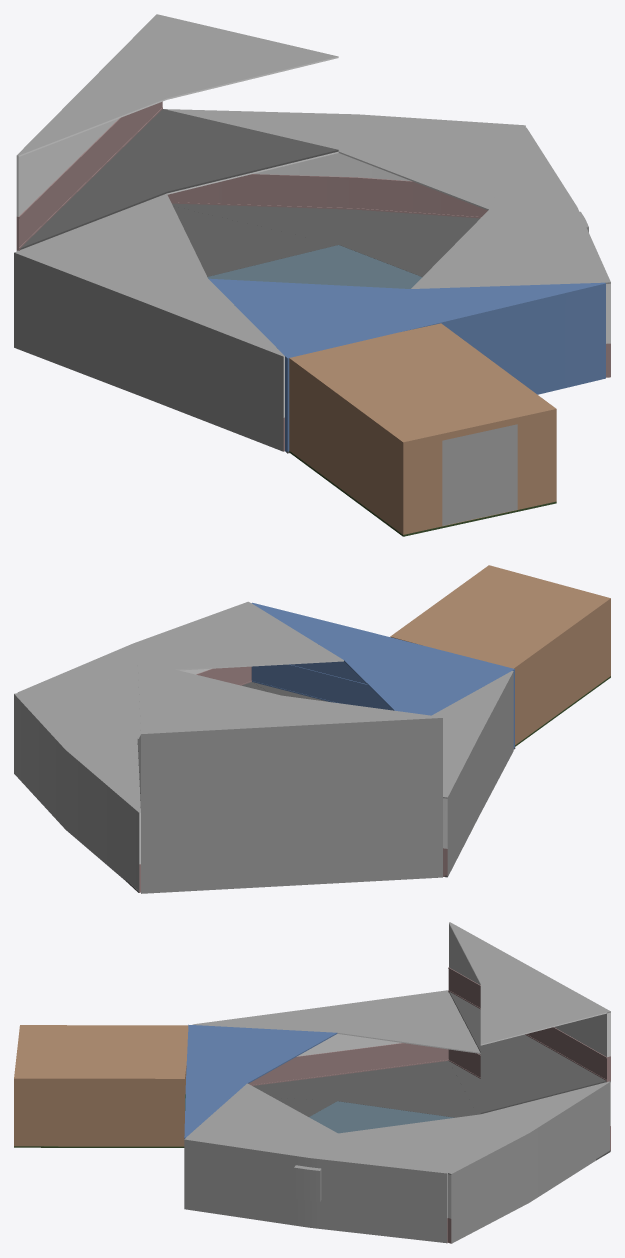
The model's file is FinalRoom_low.fbx.
3 renders of one model, top to bottom at view 1: azimuth 30°, elevation 25°; view 2: azimuth 150°, elevation 25°; view 3: azimuth 270°, elevation 25°, orthographic. The views are drawn at different scales.
Visible parts, largest first — view 1: ArchiveWall, Wall, EntryWall, MachineWall, StudyWall, GalleryWall, StudyFloor, machineFloor, BioFloor, pCube3, pCube1, pCube2; view 2: StudyWall, BioWall1, Wall, MachineWall, EntryWall, GalleryWall, ArchiveWall; view 3: GalleryWall, Wall, MachineWall, ArchiveWall, StudyWall, EntryWall, ArchiveFloor, StudyFloor, pCube3, BioFloor, BioWall1, EntryFloor.
Boxes of the visible parts, <box> form: ArchiveWall: <box>14,193,284,451</box>; Wall: <box>289,323,556,534</box>; EntryWall: <box>208,278,605,452</box>; MachineWall: <box>164,109,525,218</box>; StudyWall: <box>16,14,338,250</box>; GalleryWall: <box>411,127,610,377</box>; StudyFloor: <box>20,109,338,249</box>; machineFloor: <box>172,203,479,276</box>; BioFloor: <box>173,206,338,276</box>; pCube3: <box>207,245,422,288</box>; pCube1: <box>480,424,517,517</box>; pCube2: <box>442,432,479,525</box>; StudyWall: <box>137,660,442,813</box>; BioWall1: <box>139,773,442,893</box>; Wall: <box>390,565,610,744</box>; MachineWall: <box>14,675,140,892</box>; EntryWall: <box>251,602,514,749</box>; GalleryWall: <box>17,601,343,692</box>; ArchiveWall: <box>432,671,513,876</box>; GalleryWall: <box>184,1083,447,1243</box>; Wall: <box>14,1025,188,1146</box>; MachineWall: <box>338,1081,609,1243</box>; ArchiveWall: <box>192,990,480,1085</box>; StudyWall: <box>448,922,610,1082</box>; EntryWall: <box>184,1024,337,1138</box>; ArchiveFloor: <box>253,1061,476,1117</box>; StudyFloor: <box>449,992,606,1113</box>; pCube3: <box>309,1101,454,1133</box>; BioFloor: <box>449,1061,480,1114</box>; BioWall1: <box>448,1049,610,1150</box>; EntryFloor: <box>274,1097,336,1116</box>.
Bounding box in the file's own units: 21.43 × 7.68 × 29.39.
